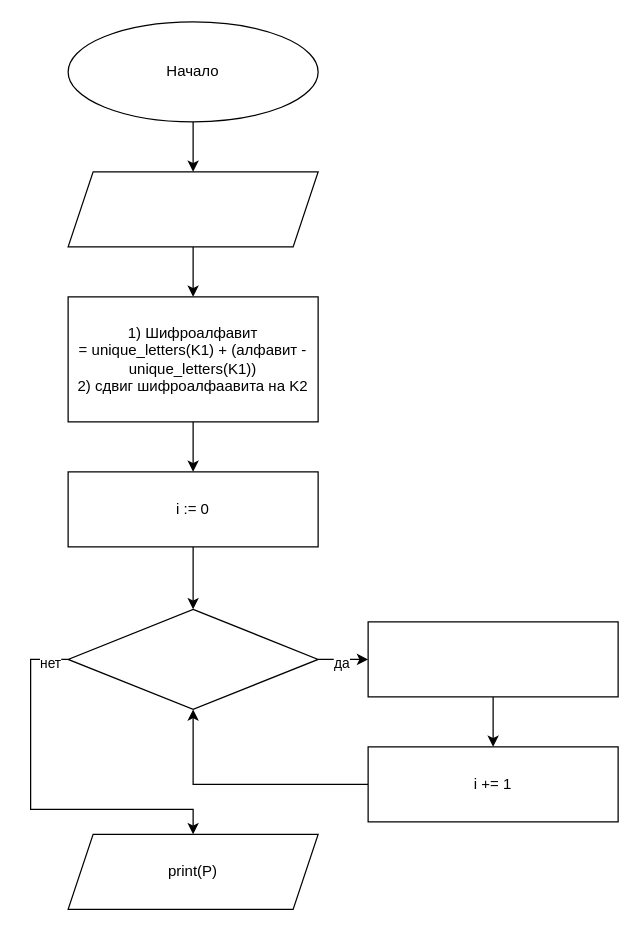
The diagram is 640 pixels wide and 931 high, and some of its shapes have lost their labels. The shapes that lost their labels are listed below. From the top down, each one's box as (x1, y1, x2, y2) in pixels, then its label:
(67, 171, 318, 247): C Ключ K1 - пароль-лозунг Ключ K2 - величина сдвига
(67, 608, 318, 709): i < |C|
(367, 621, 618, 697): P[i] = C[i]
